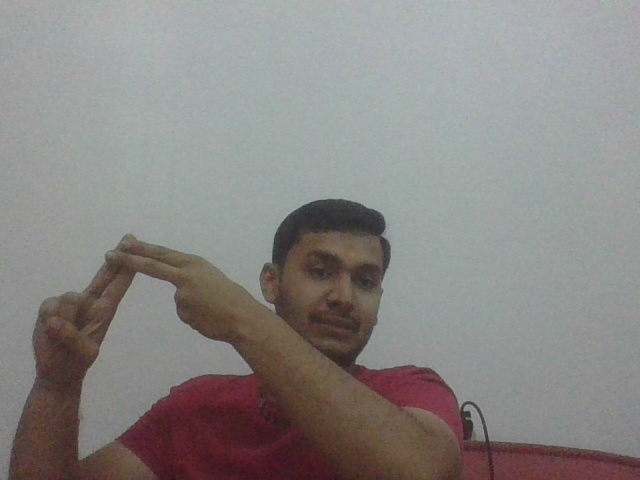F: (29, 231, 261, 369)
